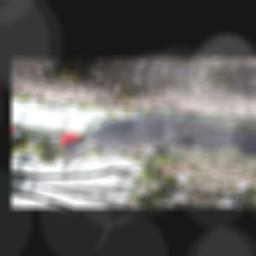Woodpecker: (43, 99, 241, 188)
